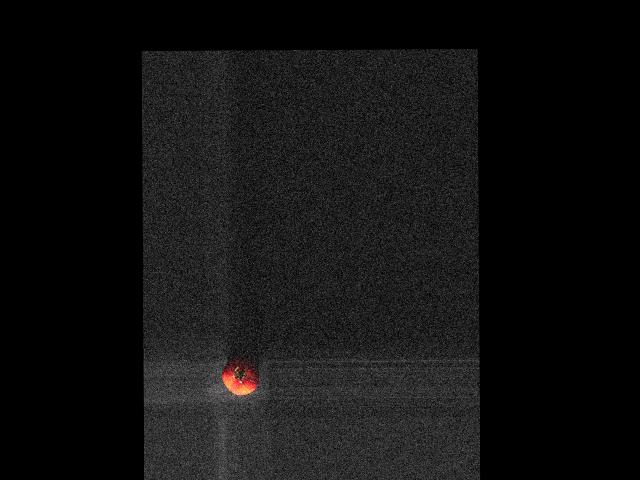tomato: (222, 357, 259, 395)
